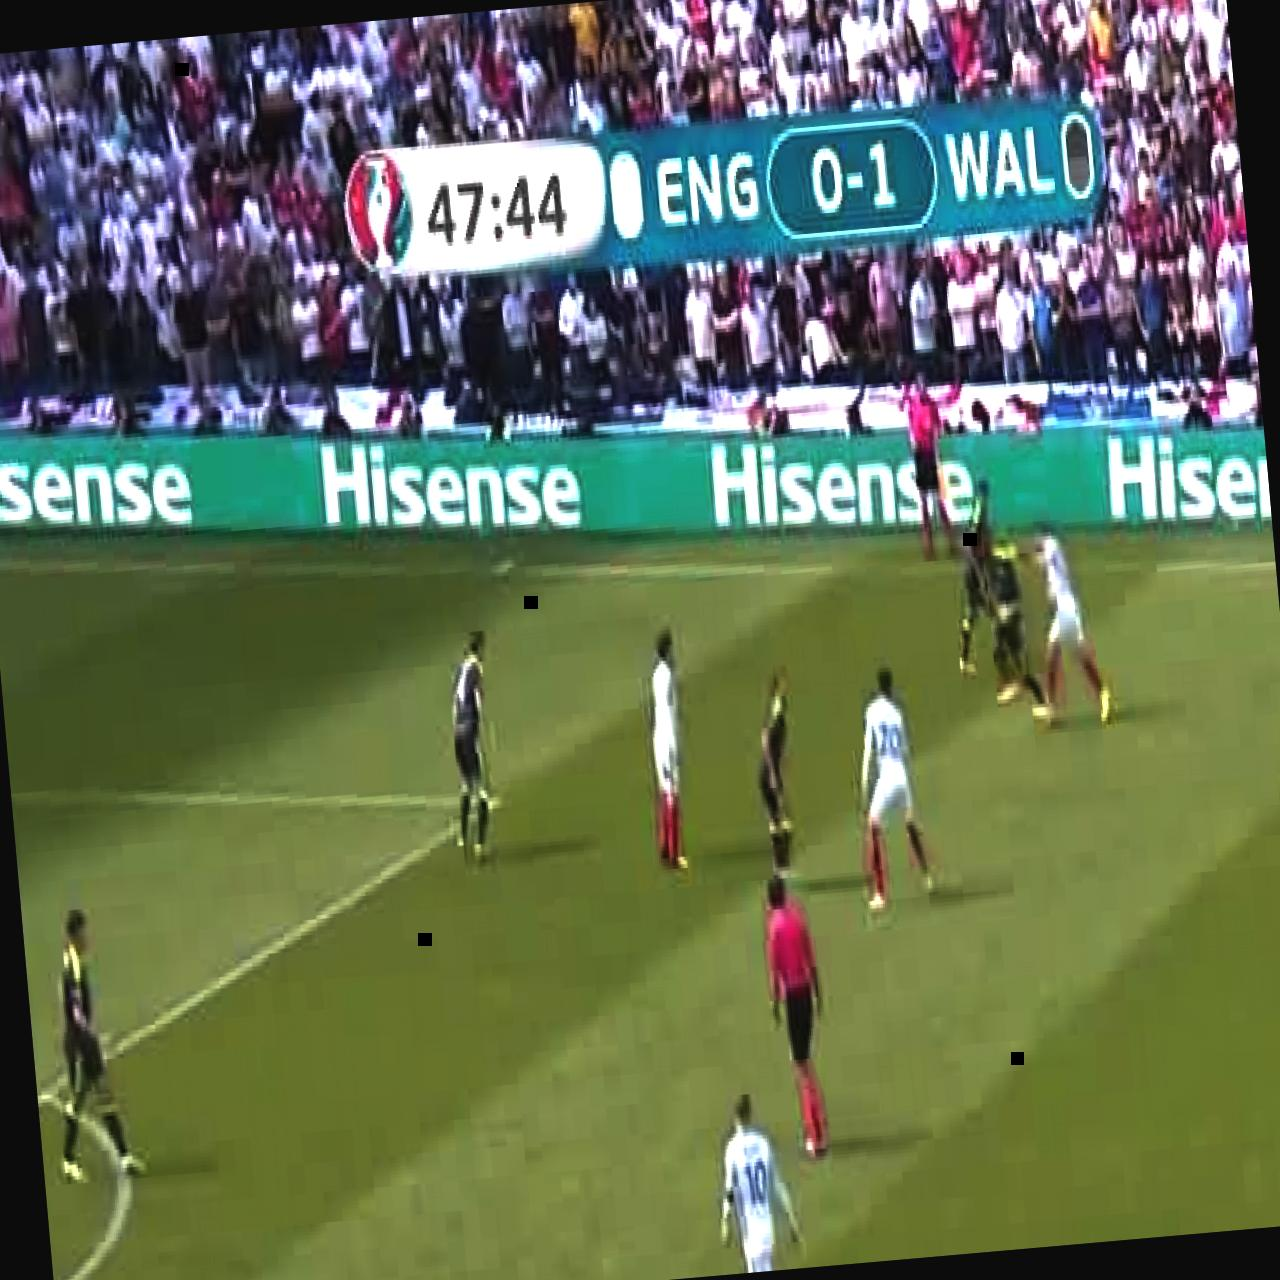football: (39, 910, 145, 1185), (760, 873, 839, 1160), (848, 668, 939, 911), (1019, 520, 1114, 730), (708, 1087, 802, 1275), (438, 632, 502, 862), (638, 630, 696, 870), (980, 520, 1048, 719), (945, 476, 1010, 680), (750, 671, 806, 886), (905, 375, 957, 555)
